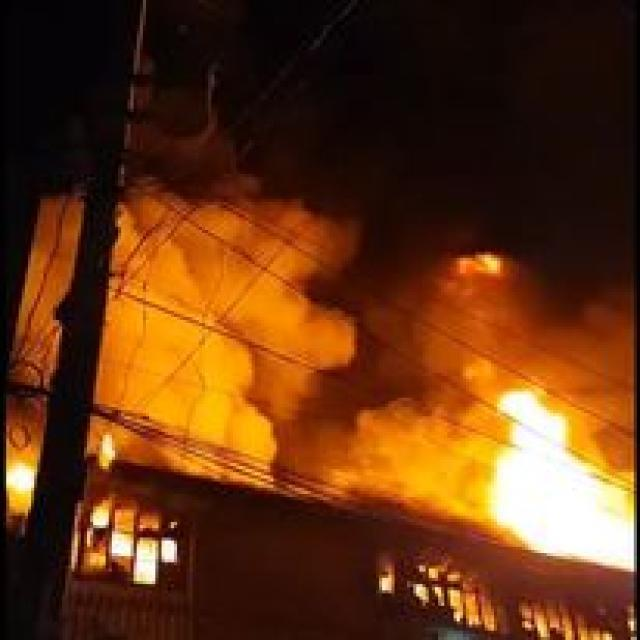Fire: (498, 391, 640, 581)
Smoke: (150, 192, 500, 509), (501, 268, 640, 390)
